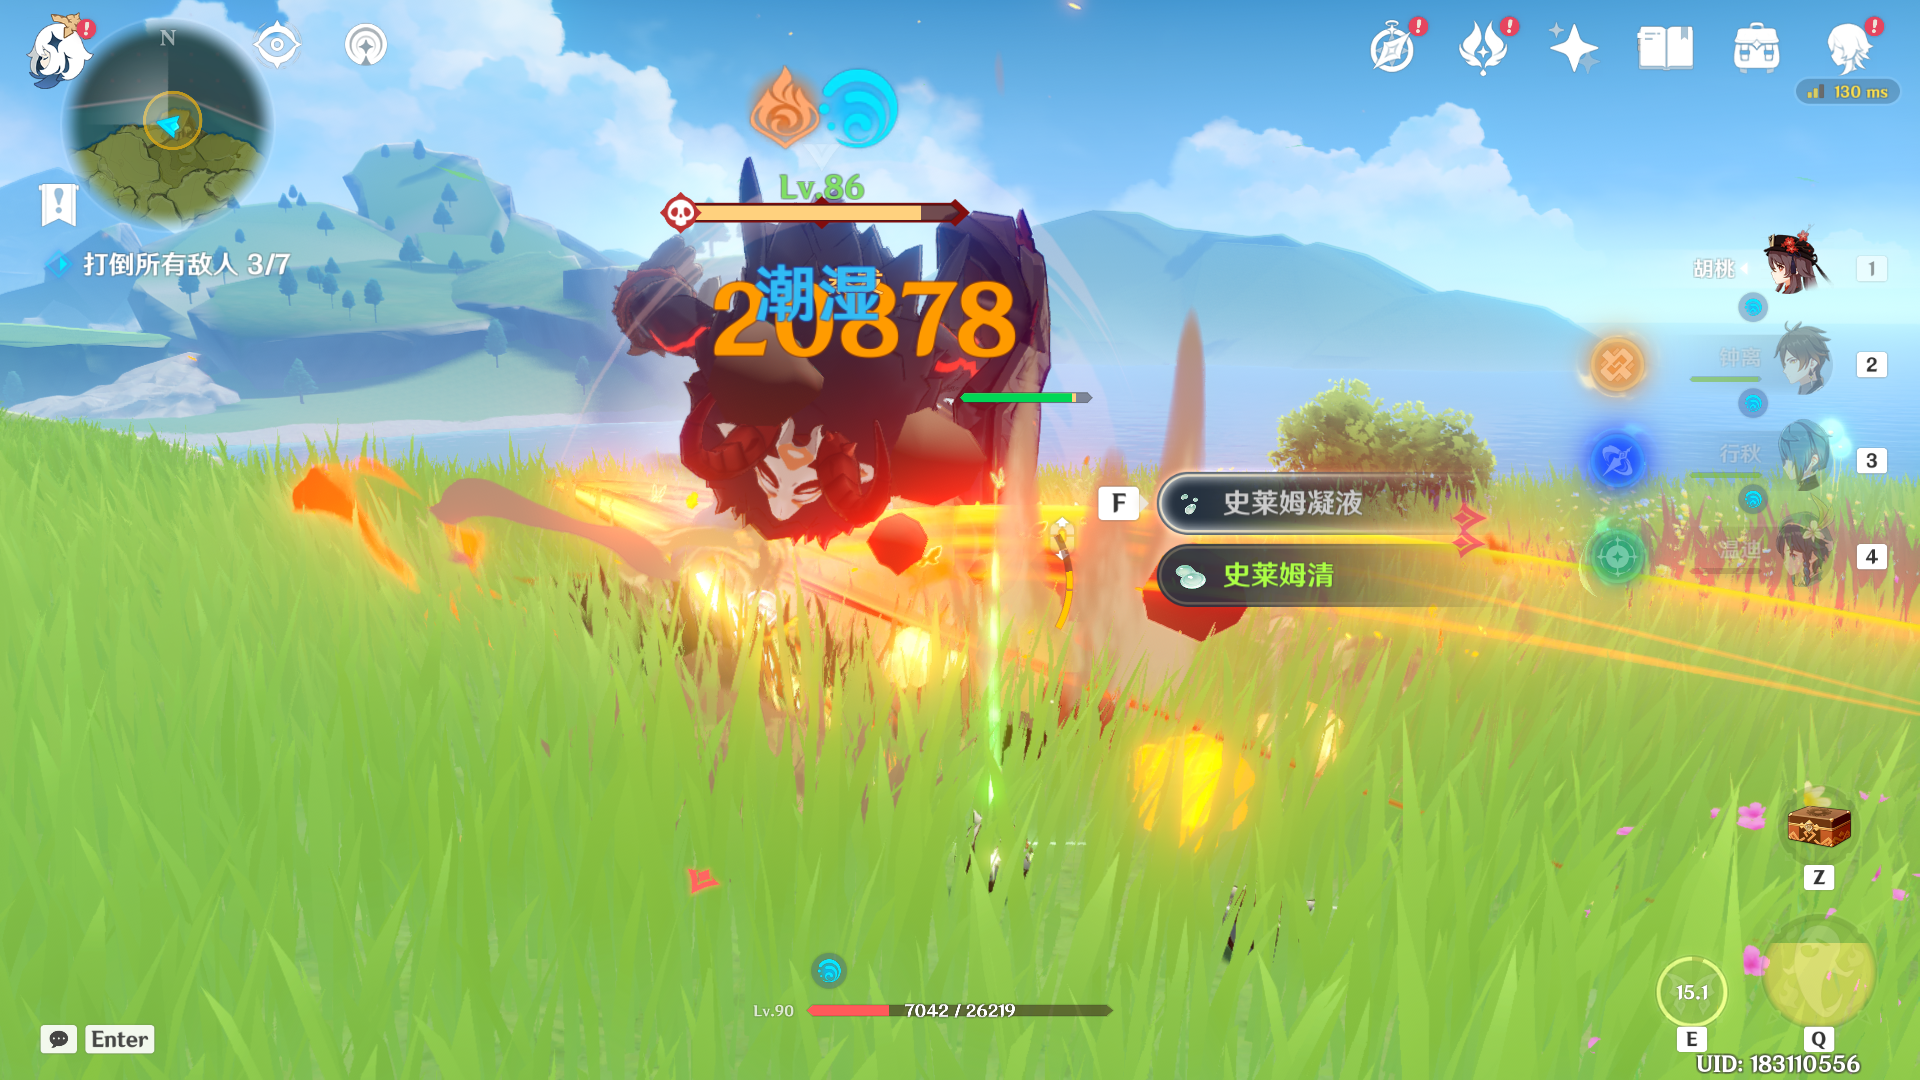bighili: (530, 123, 1040, 724)
